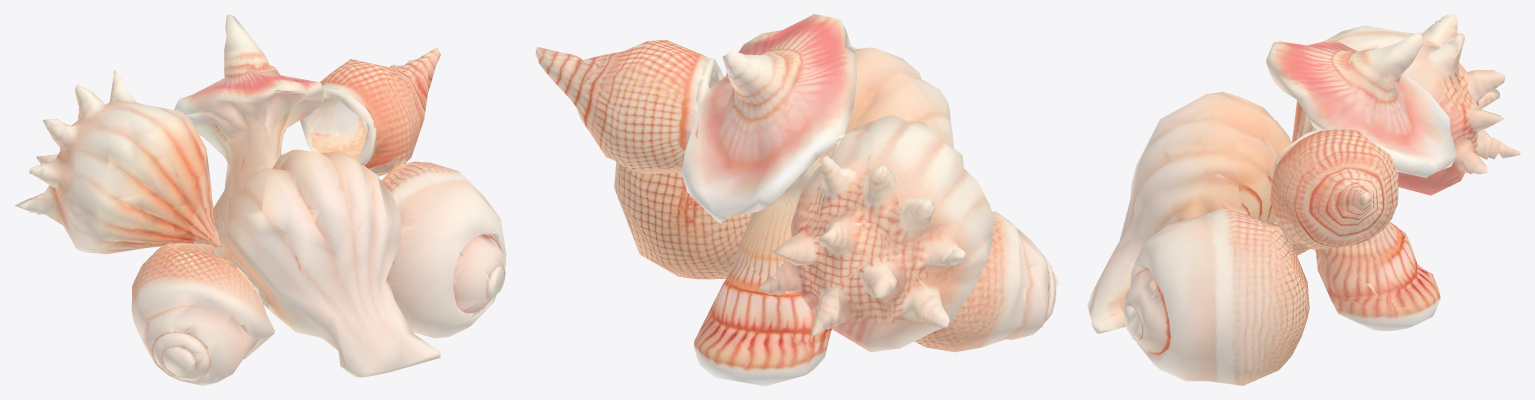
File: seashell_scatter.glb
3 views of the same model, side by side, from view 1: azimuth 30°, elevation 25°; view 2: azimuth 150°, elevation 25°; view 3: azimuth 270°, elevation 25° (orthographic). The views are drawn at different scales.
Size of the model in its own units: 1.89 by 1.28 by 1.74.
1 material, 1 textured.
